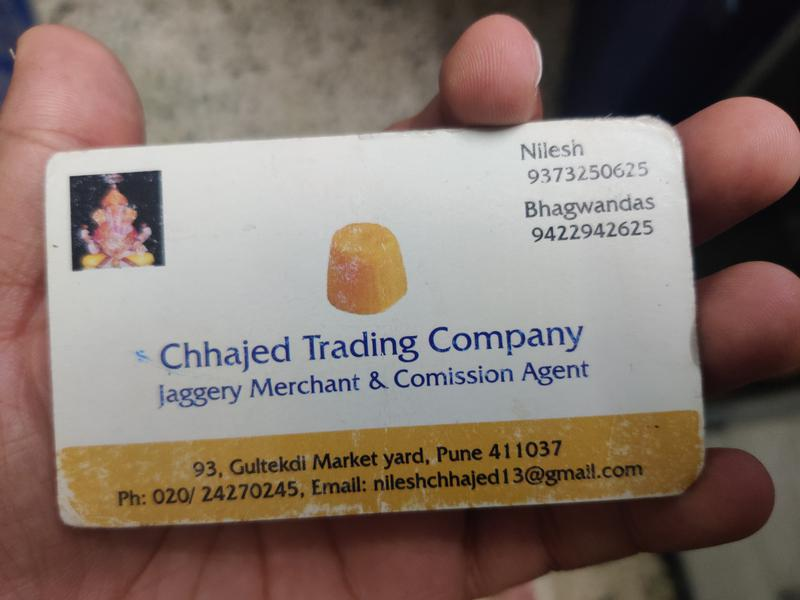card: (47, 125, 701, 517)
